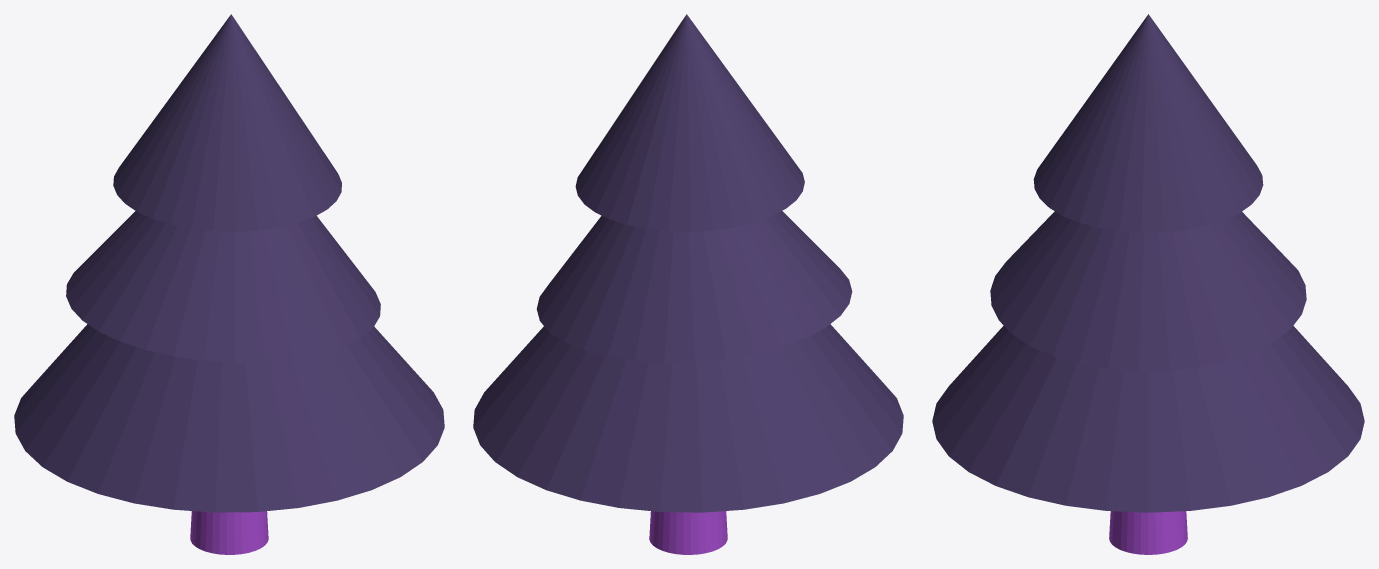
File: strom.glb
3 views of the same model, side by side, from view 1: azimuth 30°, elevation 25°; view 2: azimuth 150°, elevation 25°; view 3: azimuth 270°, elevation 25° (orthographic).
Visible parts, largest first — view 1: Cylinder; view 2: Cylinder; view 3: Cylinder.
Part boxes in pixels (<box>): Cylinder: <box>14,14,444,554</box>; Cylinder: <box>473,14,903,554</box>; Cylinder: <box>932,14,1364,554</box>.
Bounding box in the file's own units: 3.06 × 4.1 × 3.06.
